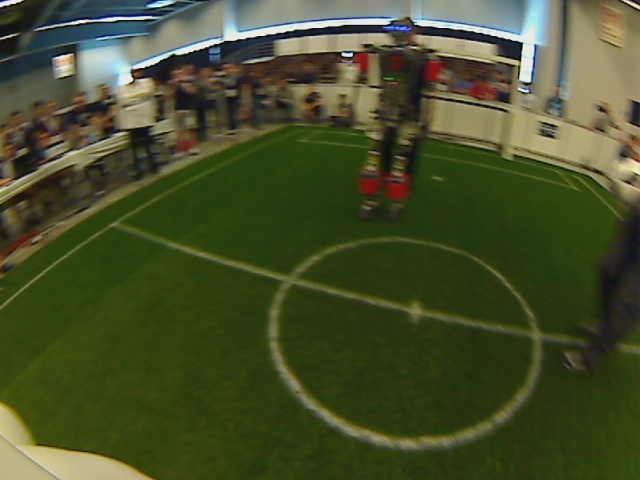ball: (609, 156, 640, 206)
